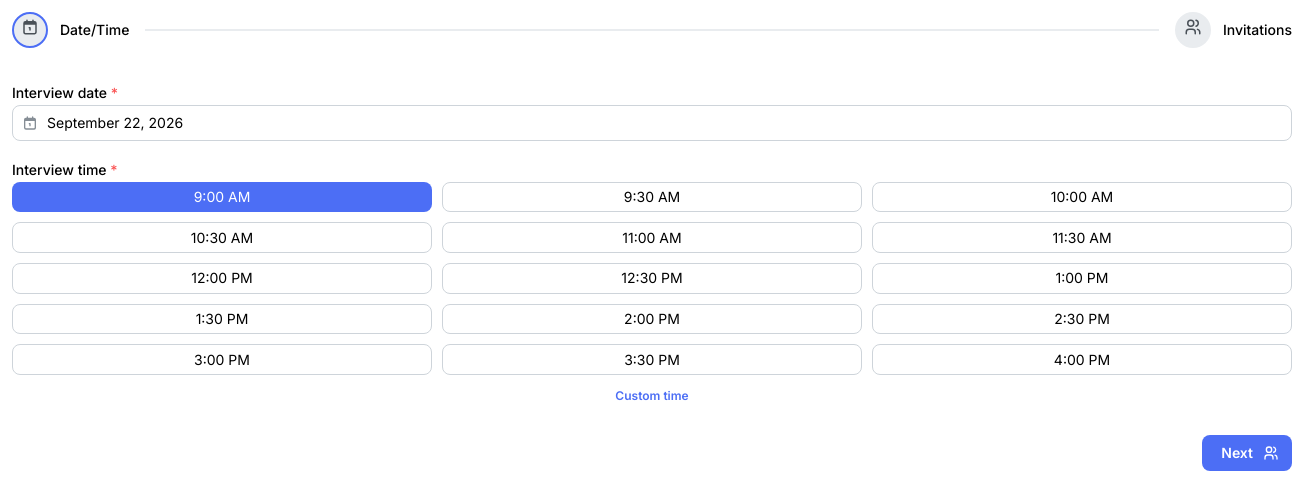
Test: scheduleForm › adds an invite row when clicking Add invitation
This screenshot has width=1304, height=488.
// Navigate to step 2
Click the button "Next" at [1247, 453], box [1202,435,1292,471]
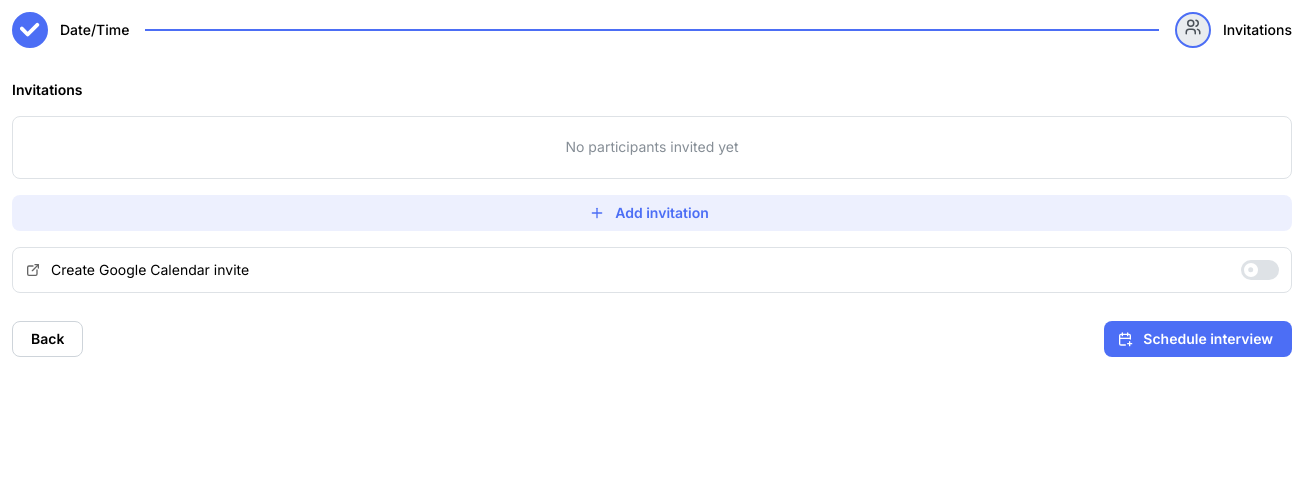
Click the button "Add invitation" at [652, 213], box [12,195,1292,231]
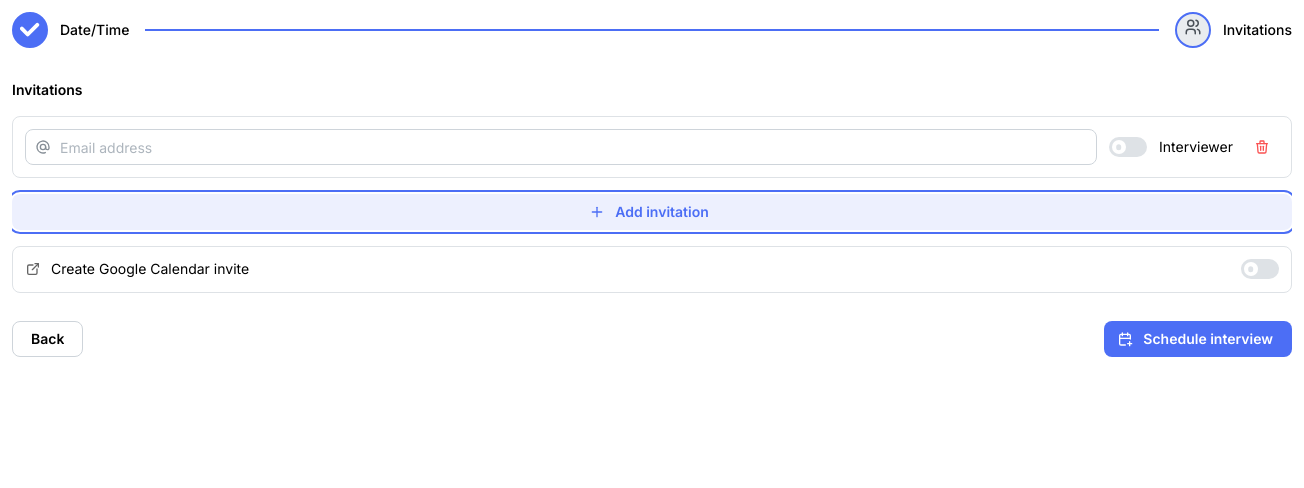
Check: the field with placeholder "Email address" is shown, box [25,129,1097,165]
Check: the text "Interviewer" is shown, box [1147,137,1233,157]
Check: the text "No participants invited yet" is gone
